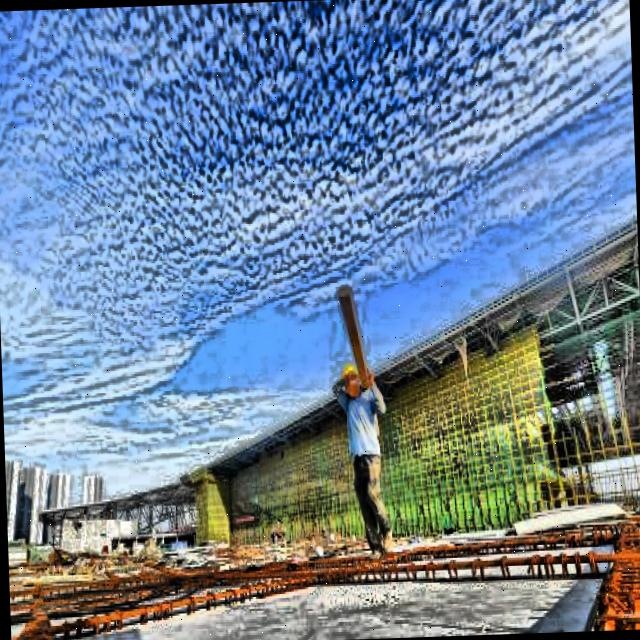helmet: (340, 359, 362, 398)
